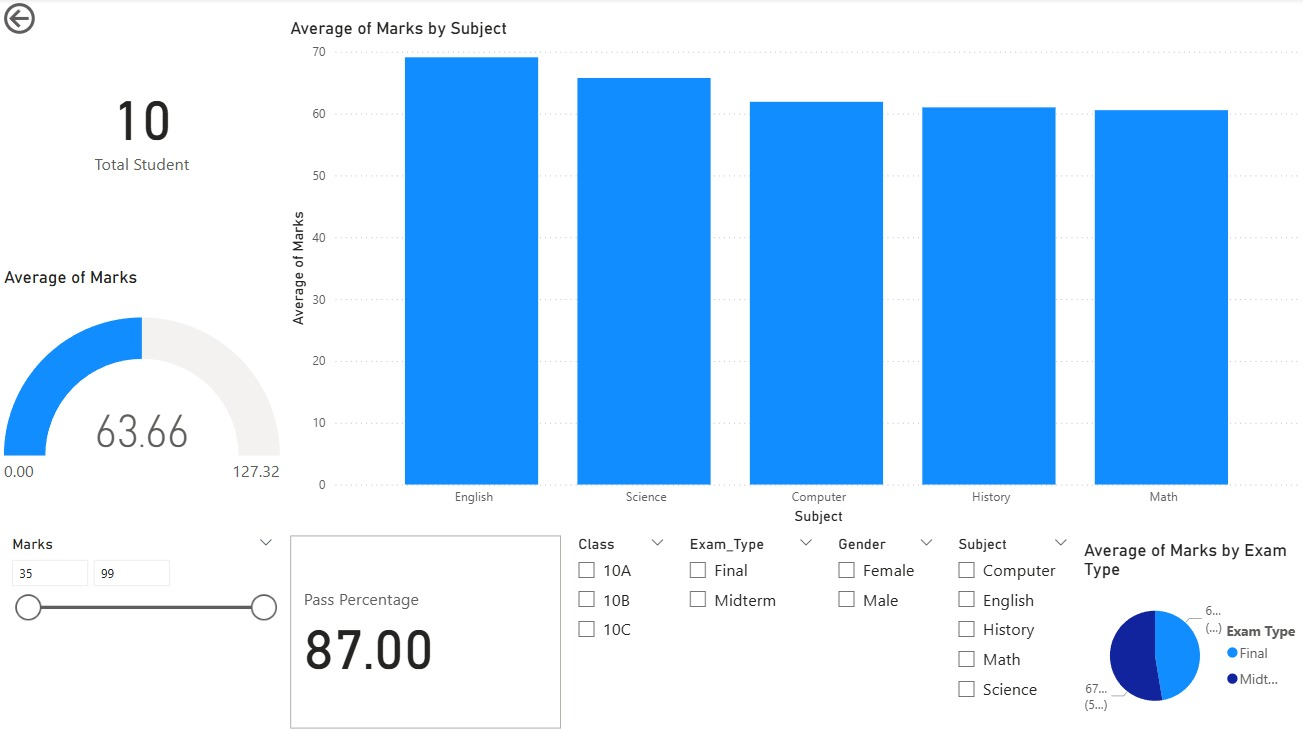

Layout of this report page (visuals, bound fields, positions):
{"tool":"powerbi","page":{"name":"Page 1","canvas":[1280,720],"ordinal":0},"visuals":[{"type":"card","fields":{"Values":["Count(student_performance_data.Student_ID)"]},"box":[0,0,280,247],"z":0},{"type":"gauge","fields":{"Y":["Avg(student_performance_data.Marks)"]},"box":[0,263.5,280,247],"z":1000},{"type":"slicer","fields":{"Values":["student_performance_data.Marks"]},"box":[0,521,280,199],"z":2000},{"type":"cardVisual","fields":{"Data":["student_performance_data.Pass Percentage"]},"box":[280.4,520.6,275.4,199.9],"z":3000},{"type":"clusteredColumnChart","fields":{"Category":["student_performance_data.Subject"],"Y":["Avg(student_performance_data.Marks)"]},"box":[280.4,20.1,999.6,500.4],"z":4000},{"type":"slicer","fields":{"Values":["student_performance_data.Class"]},"box":[554.5,520.6,109.4,199.9],"z":5000},{"type":"slicer","fields":{"Values":["student_performance_data.Exam_Type"]},"box":[662.6,520.6,145.9,199.9],"z":6000},{"type":"slicer","fields":{"Values":["student_performance_data.Gender"]},"box":[808.5,520.6,118.2,199.9],"z":7000},{"type":"slicer","fields":{"Values":["student_performance_data.Subject"]},"box":[925.4,520.6,132,199.9],"z":8000},{"type":"actionButton","box":[0,0,100,40],"z":10000},{"type":"pieChart","fields":{"Y":["Avg(student_performance_data.Marks)"],"Series":["student_performance_data.Exam_Type"]},"box":[1057,530,223,190],"z":10001}]}

Visuals, with their boxes on the page's 1280x720 design canvas (x1, y1, x2, y2). These are canvas units, not pixel positions in the 1303x732 screenshot, which may show the page scaled, cropped or inside an application window:
card - Count(student_performance_data.Student_ID): [left=0, top=0, right=280, bottom=247]
gauge - Avg(student_performance_data.Marks): [left=0, top=264, right=280, bottom=510]
slicer - student_performance_data.Marks: [left=0, top=521, right=280, bottom=720]
cardVisual - student_performance_data.Pass Percentage: [left=280, top=521, right=556, bottom=720]
clusteredColumnChart - student_performance_data.Subject x Avg(student_performance_data.Marks): [left=280, top=20, right=1280, bottom=520]
slicer - student_performance_data.Class: [left=554, top=521, right=664, bottom=720]
slicer - student_performance_data.Exam_Type: [left=663, top=521, right=808, bottom=720]
slicer - student_performance_data.Gender: [left=808, top=521, right=927, bottom=720]
slicer - student_performance_data.Subject: [left=925, top=521, right=1057, bottom=720]
actionButton: [left=0, top=0, right=100, bottom=40]
pieChart - Avg(student_performance_data.Marks) x student_performance_data.Exam_Type: [left=1057, top=530, right=1280, bottom=720]
